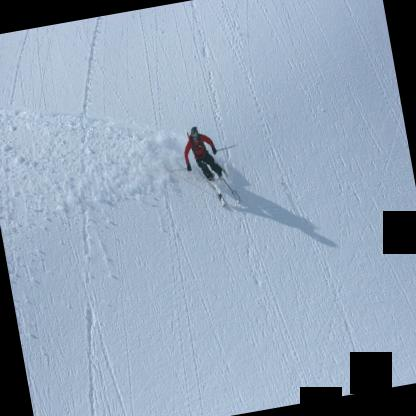backpack: (189, 134, 202, 154)
